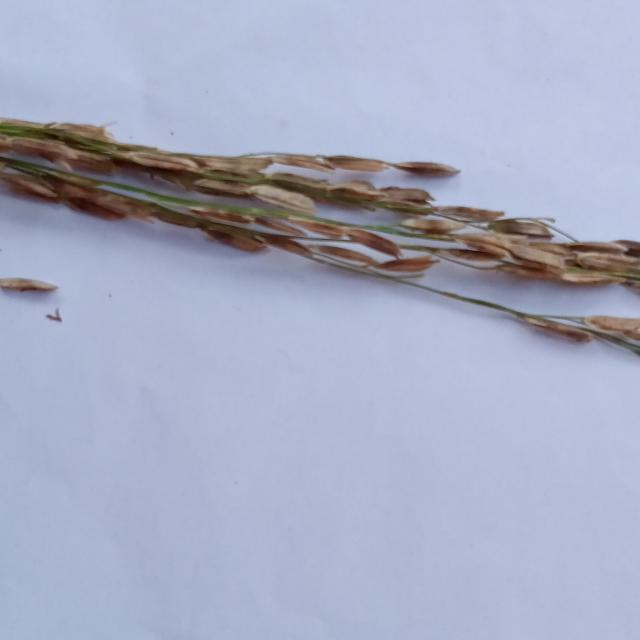Neck_Blast: (0, 111, 640, 372)
